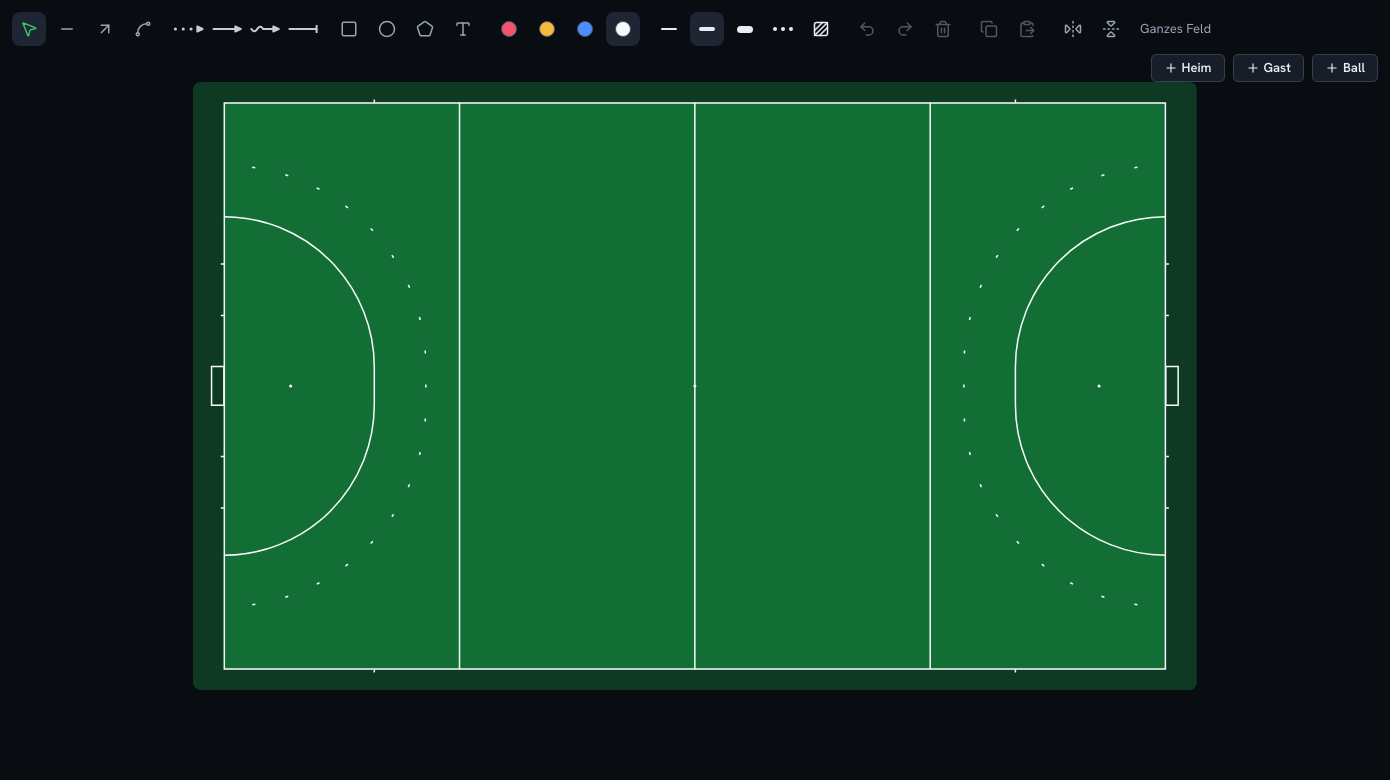
Test case: tactics board › draws a pass with its tool, names it, and rests the dotted toggle meanwhile
Expected: the button named "Gepunktet" is enabled, left=766, top=12, right=800, bottom=46
Step 1. Click the button named "Pass (P)" → (227, 29), box left=210, top=12, right=244, bottom=46
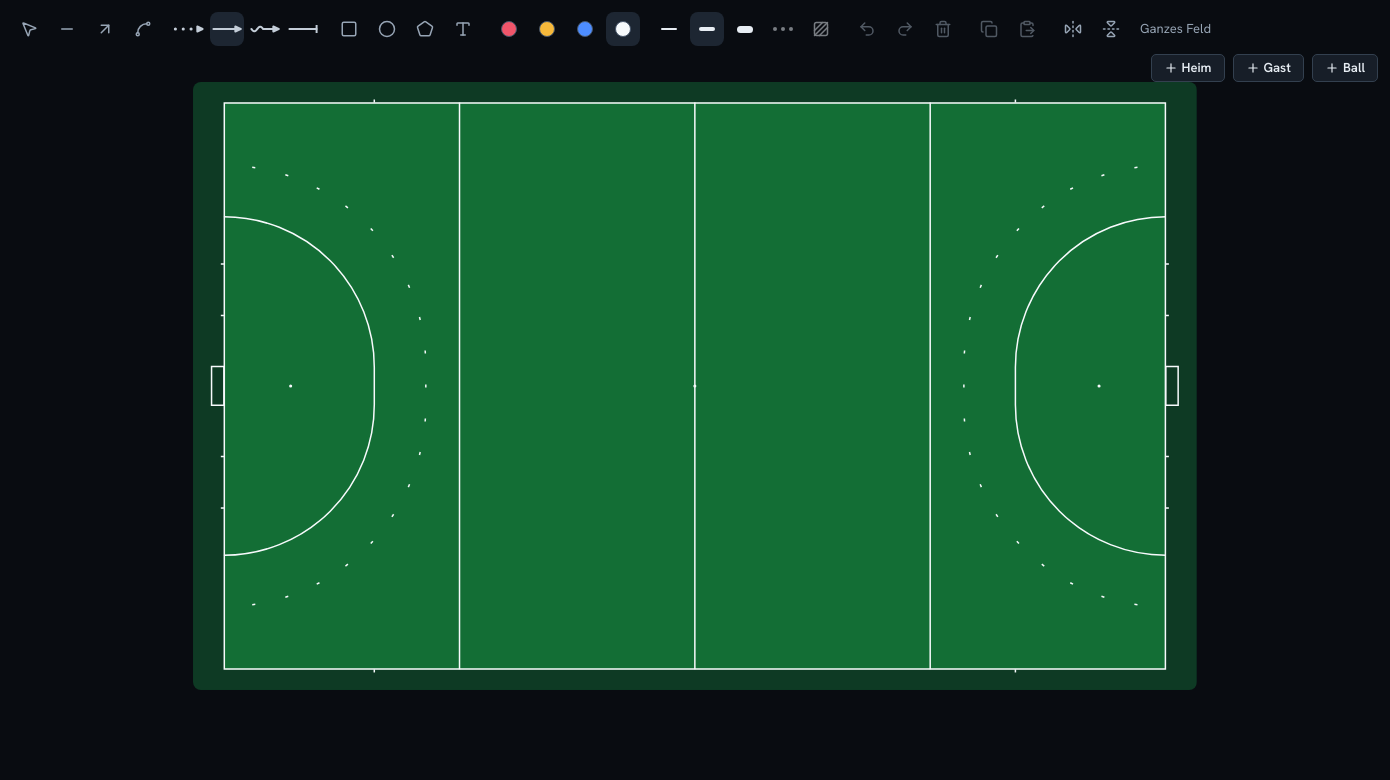
Now the button named "Gepunktet" is disabled, box left=766, top=12, right=800, bottom=46
Step 2. Press the mouse on the icon named "Spielfeld" → (695, 386), box left=193, top=82, right=1197, bottom=690
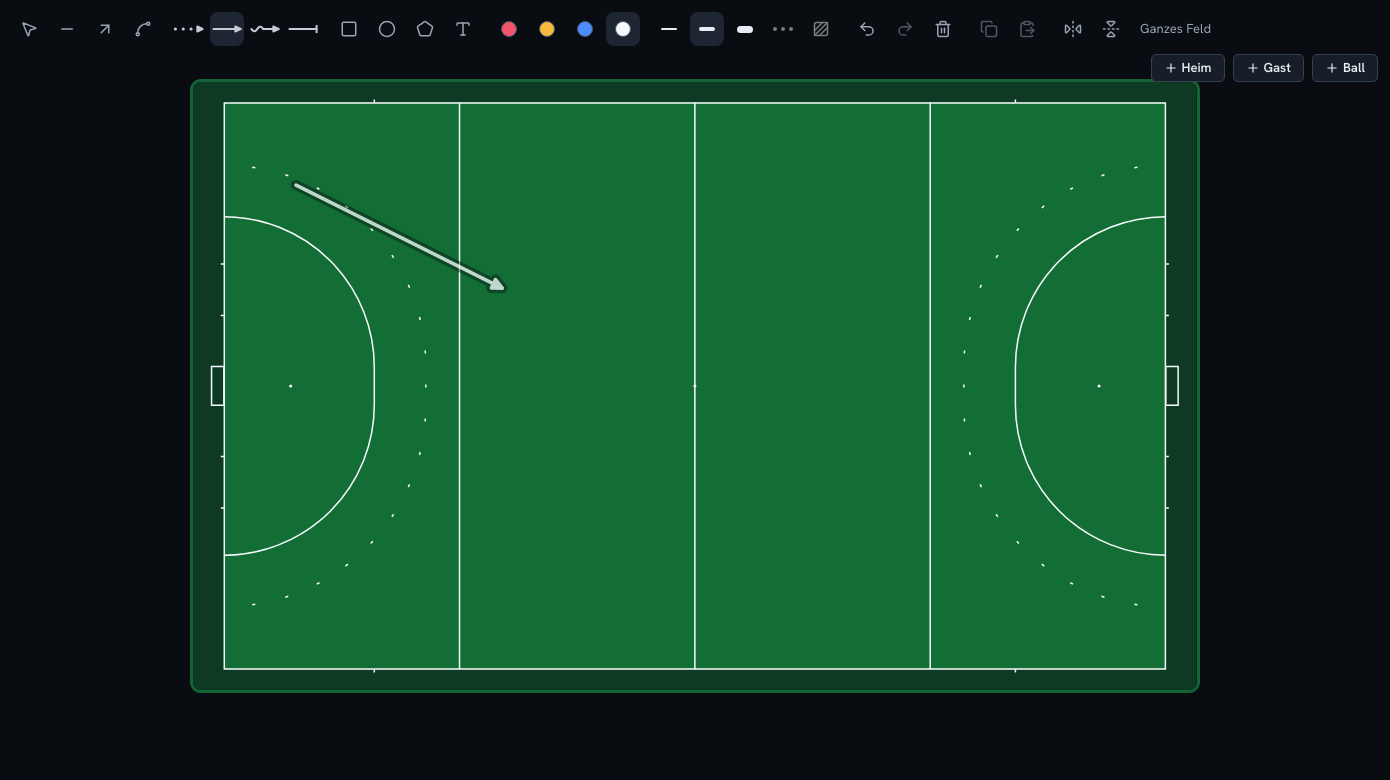
Step 3. Click the button named "Bewegen (V)" → (29, 29), box left=12, top=12, right=46, bottom=46
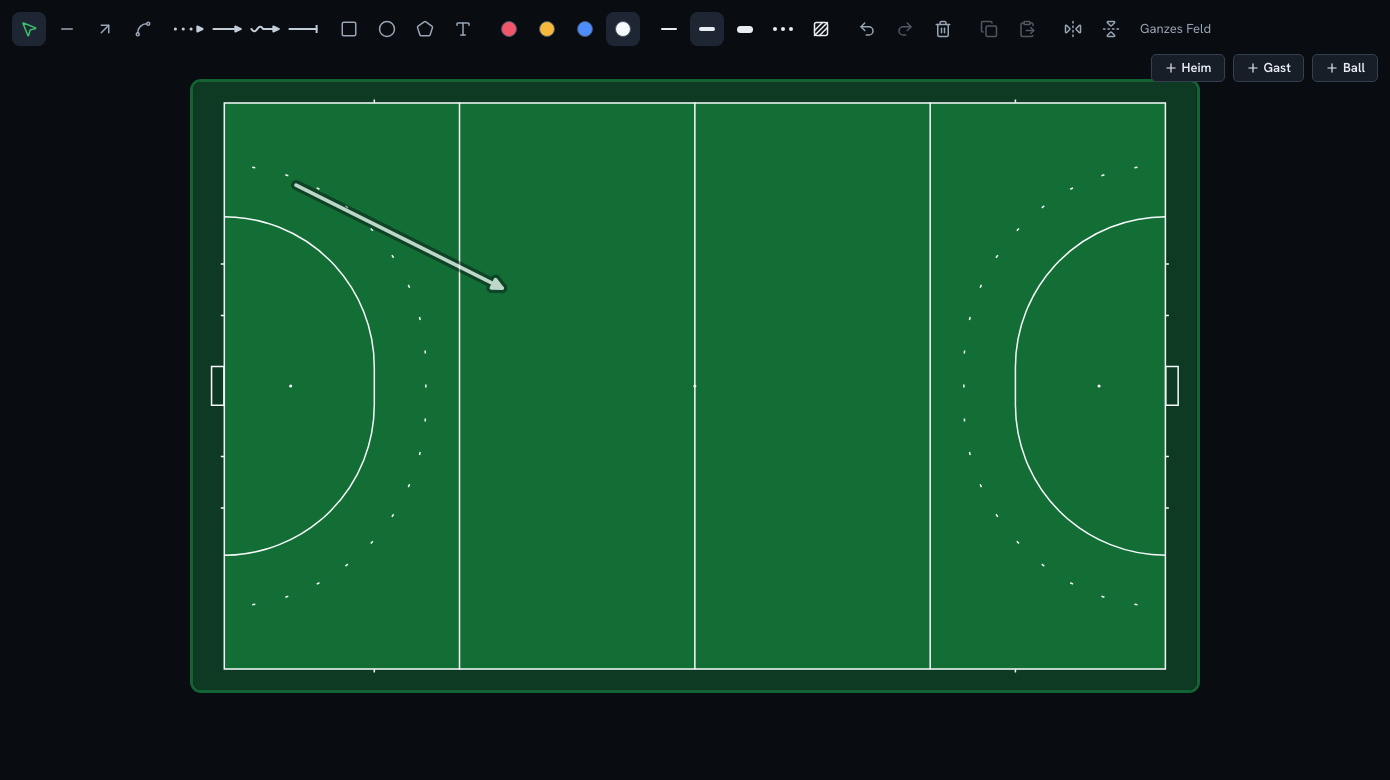
Expected: the button "Pass 1" is shown, left=296, top=185, right=502, bottom=288
Now the button named "Gepunktet" is enabled, box left=766, top=12, right=800, bottom=46
